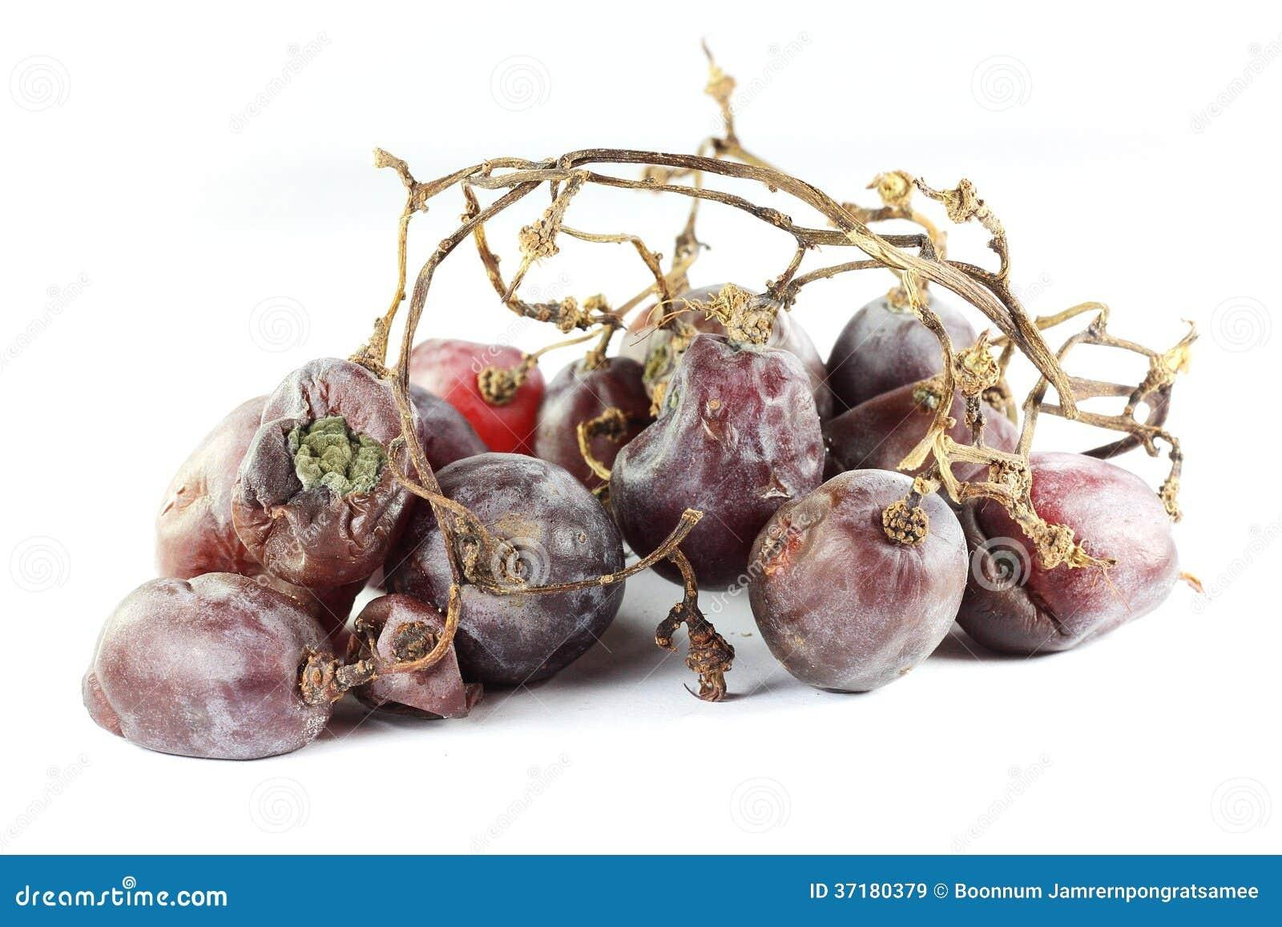Grape Rotten: (82, 333, 1179, 759)
